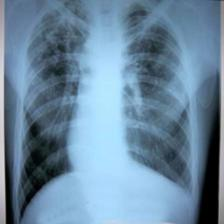tuberculosis: (15, 0, 196, 223)
